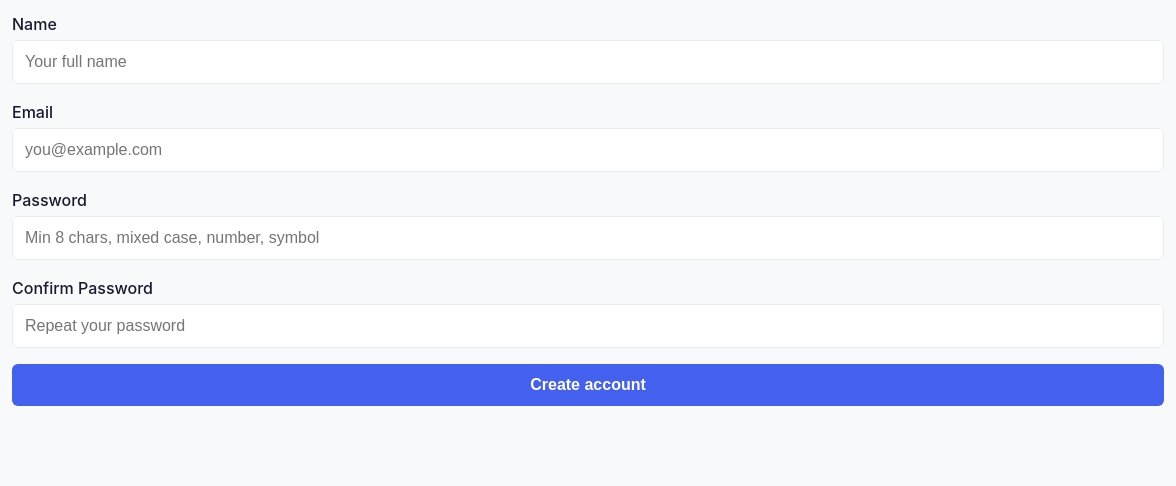
Scenario: SignupForm › shows password complexity error for weak password
The width and height of the screenshot is (1176, 486).
Type "weak" into the password field labelled "Password" at (588, 238), box [12,216,1164,260]
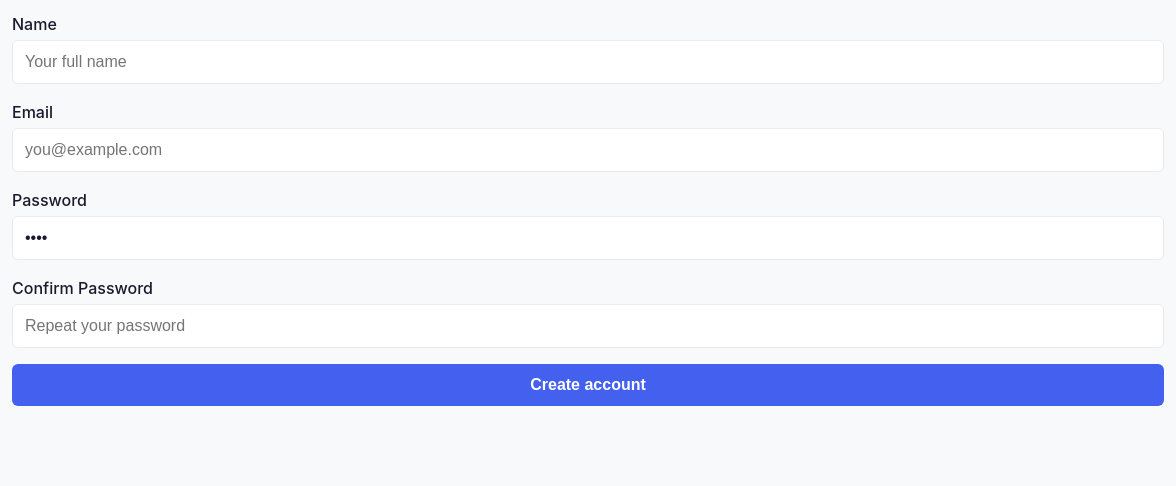
Type "weak" into the password field labelled "Confirm Password" at (588, 326), box [12,304,1164,348]
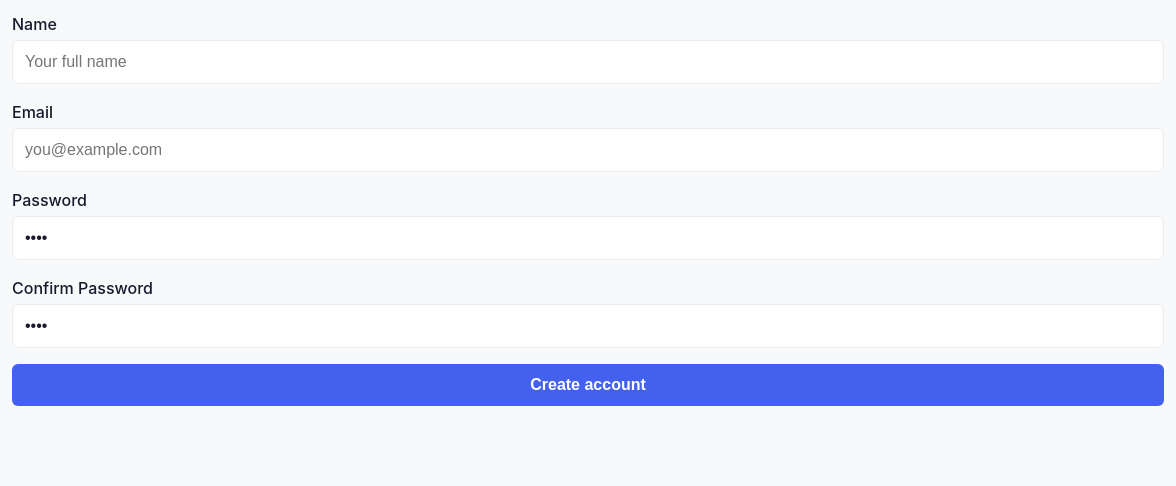
Submit the form
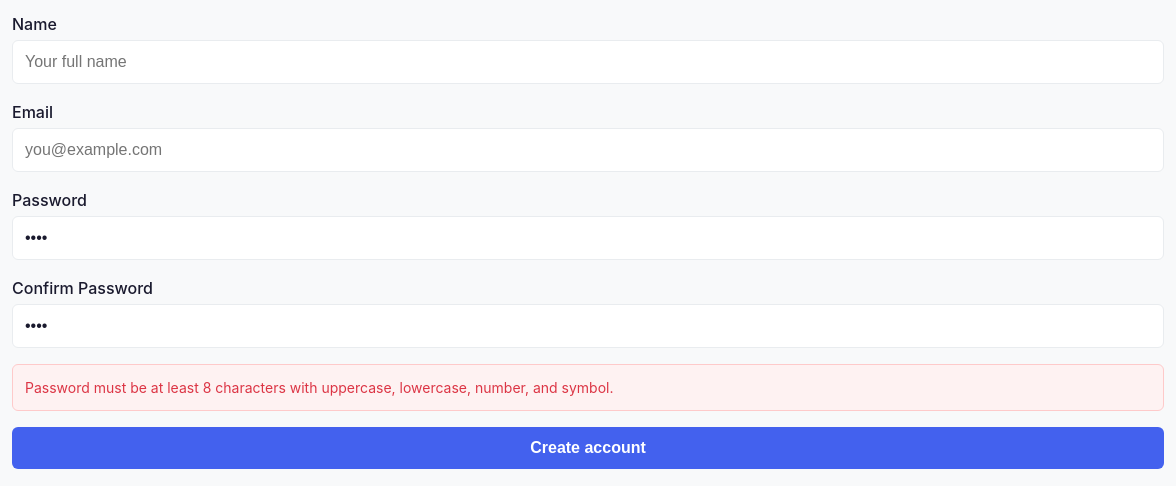
Expected: the form shows "Password must be at least 8 characters", [25,379,614,396]
